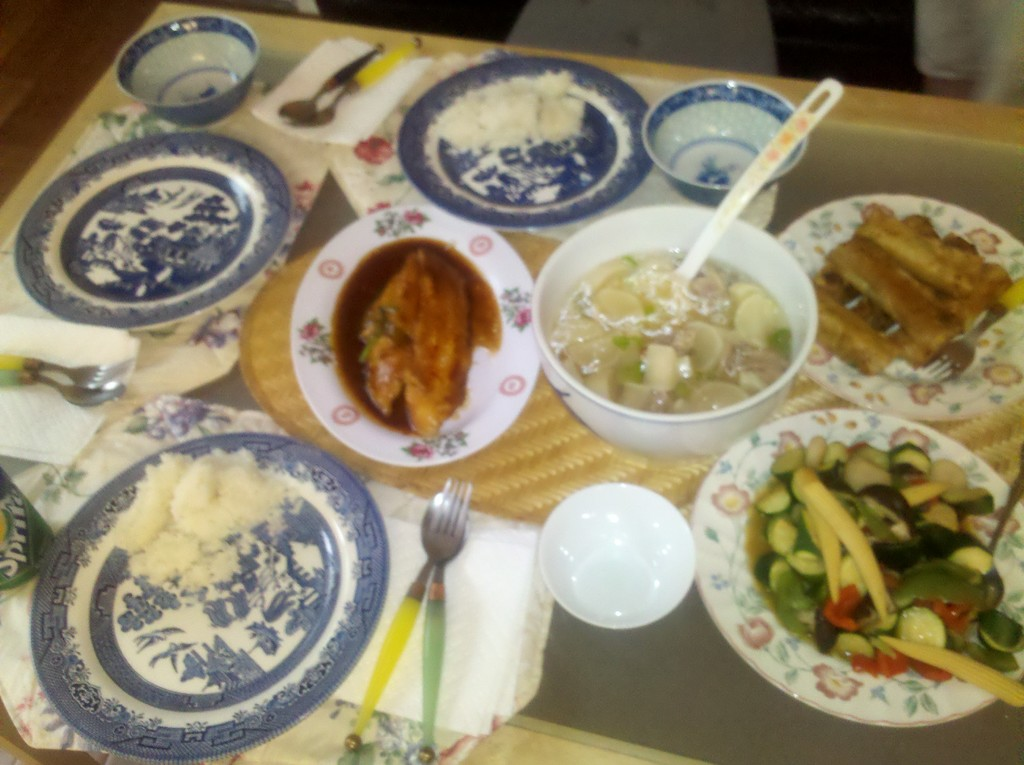plate: (27, 405, 389, 754), (12, 130, 286, 329)
